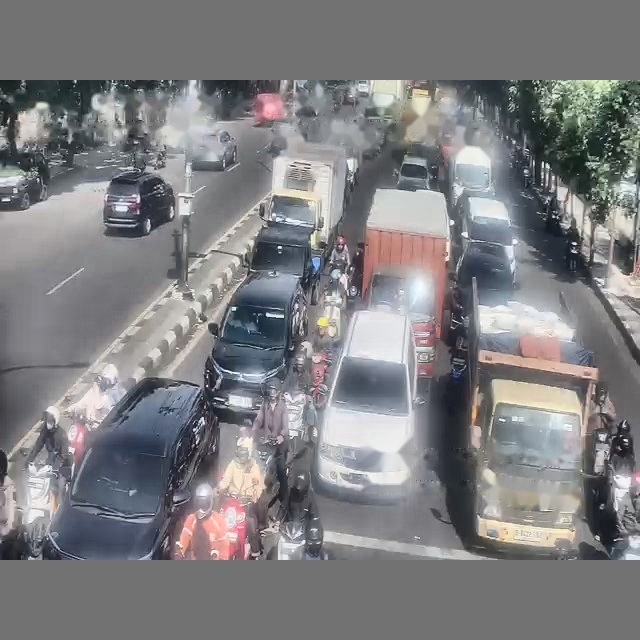Mobil: (43, 378, 219, 559), (314, 310, 422, 499), (204, 272, 307, 414), (248, 224, 320, 304), (103, 170, 175, 235), (461, 197, 517, 277), (455, 243, 515, 312), (0, 163, 46, 210), (189, 130, 237, 170), (395, 156, 431, 190), (362, 116, 385, 158), (344, 83, 358, 105), (356, 80, 369, 96)
Motor: (22, 463, 62, 557), (220, 493, 249, 559), (322, 265, 348, 337), (68, 413, 99, 466), (284, 389, 308, 456), (268, 518, 305, 559), (311, 352, 330, 409), (567, 240, 580, 275)
Truk: (466, 278, 597, 554), (361, 189, 449, 385), (259, 141, 349, 262)
